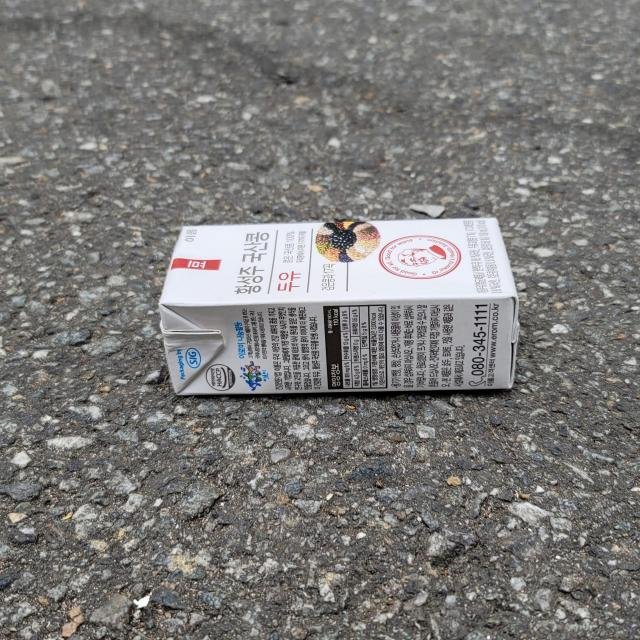paperpack: (159, 217, 519, 396)
